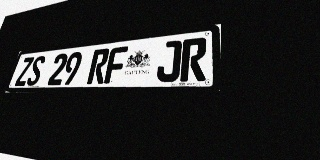2: (47, 53, 69, 85)
9: (61, 51, 83, 85)
F: (104, 46, 128, 84)
J: (156, 40, 182, 82)
R: (180, 37, 207, 82), (87, 48, 110, 84)
S: (25, 55, 46, 86)
Z: (14, 57, 35, 86)
